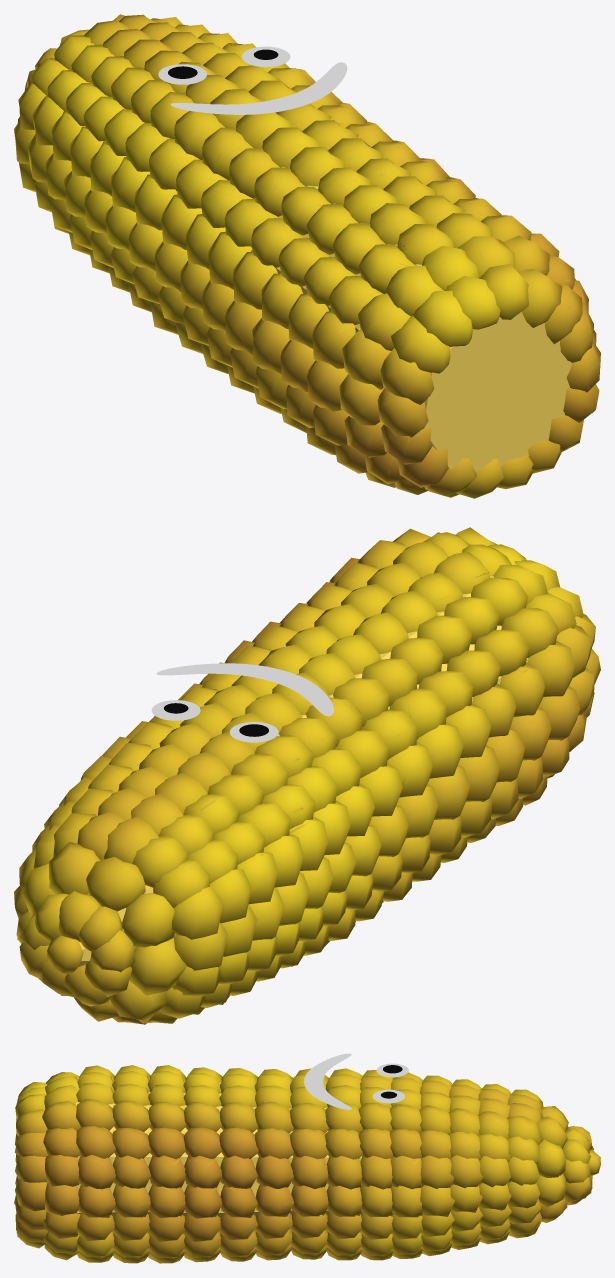
The model's file is corn_cob.fbx.
3 renders of one model, top to bottom at view 1: azimuth 30°, elevation 25°; view 2: azimuth 150°, elevation 25°; view 3: azimuth 270°, elevation 25°, orthographic. The views are drawn at different scales.
Visible parts, largest first — view 1: Corn_Cob; view 2: Corn_Cob; view 3: Corn_Cob.
Boxes of the visible parts, <box> form: Corn_Cob: <box>14,14,600,498</box>; Corn_Cob: <box>14,527,600,1024</box>; Corn_Cob: <box>14,1053,600,1263</box>.
Size of the model in its own units: 145 by 133 by 412.
